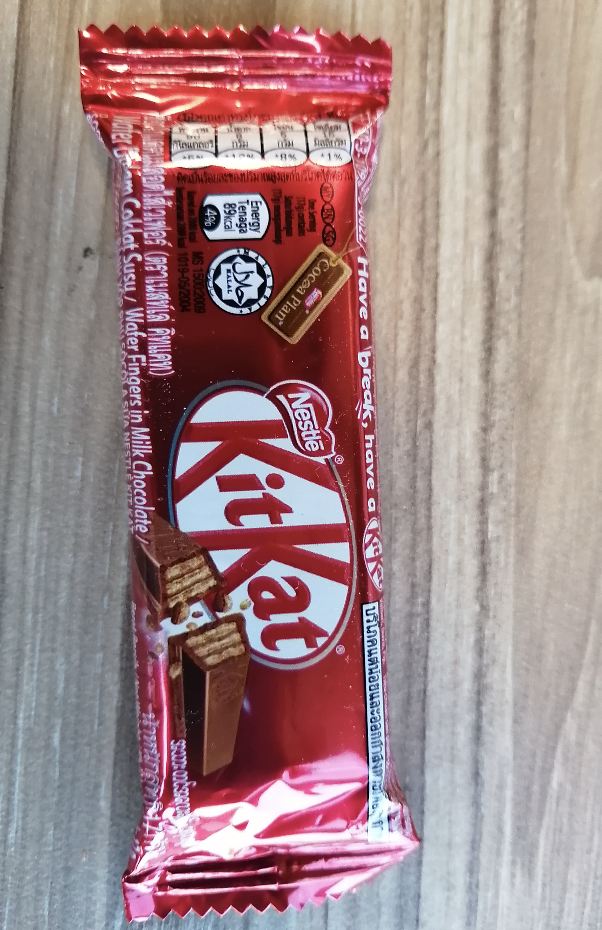Kitkat: (146, 109, 375, 844)
